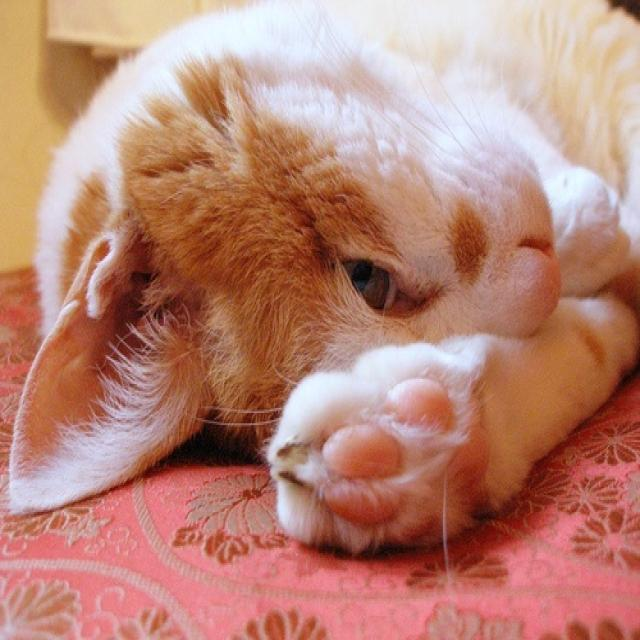cat: (6, 0, 639, 555)
